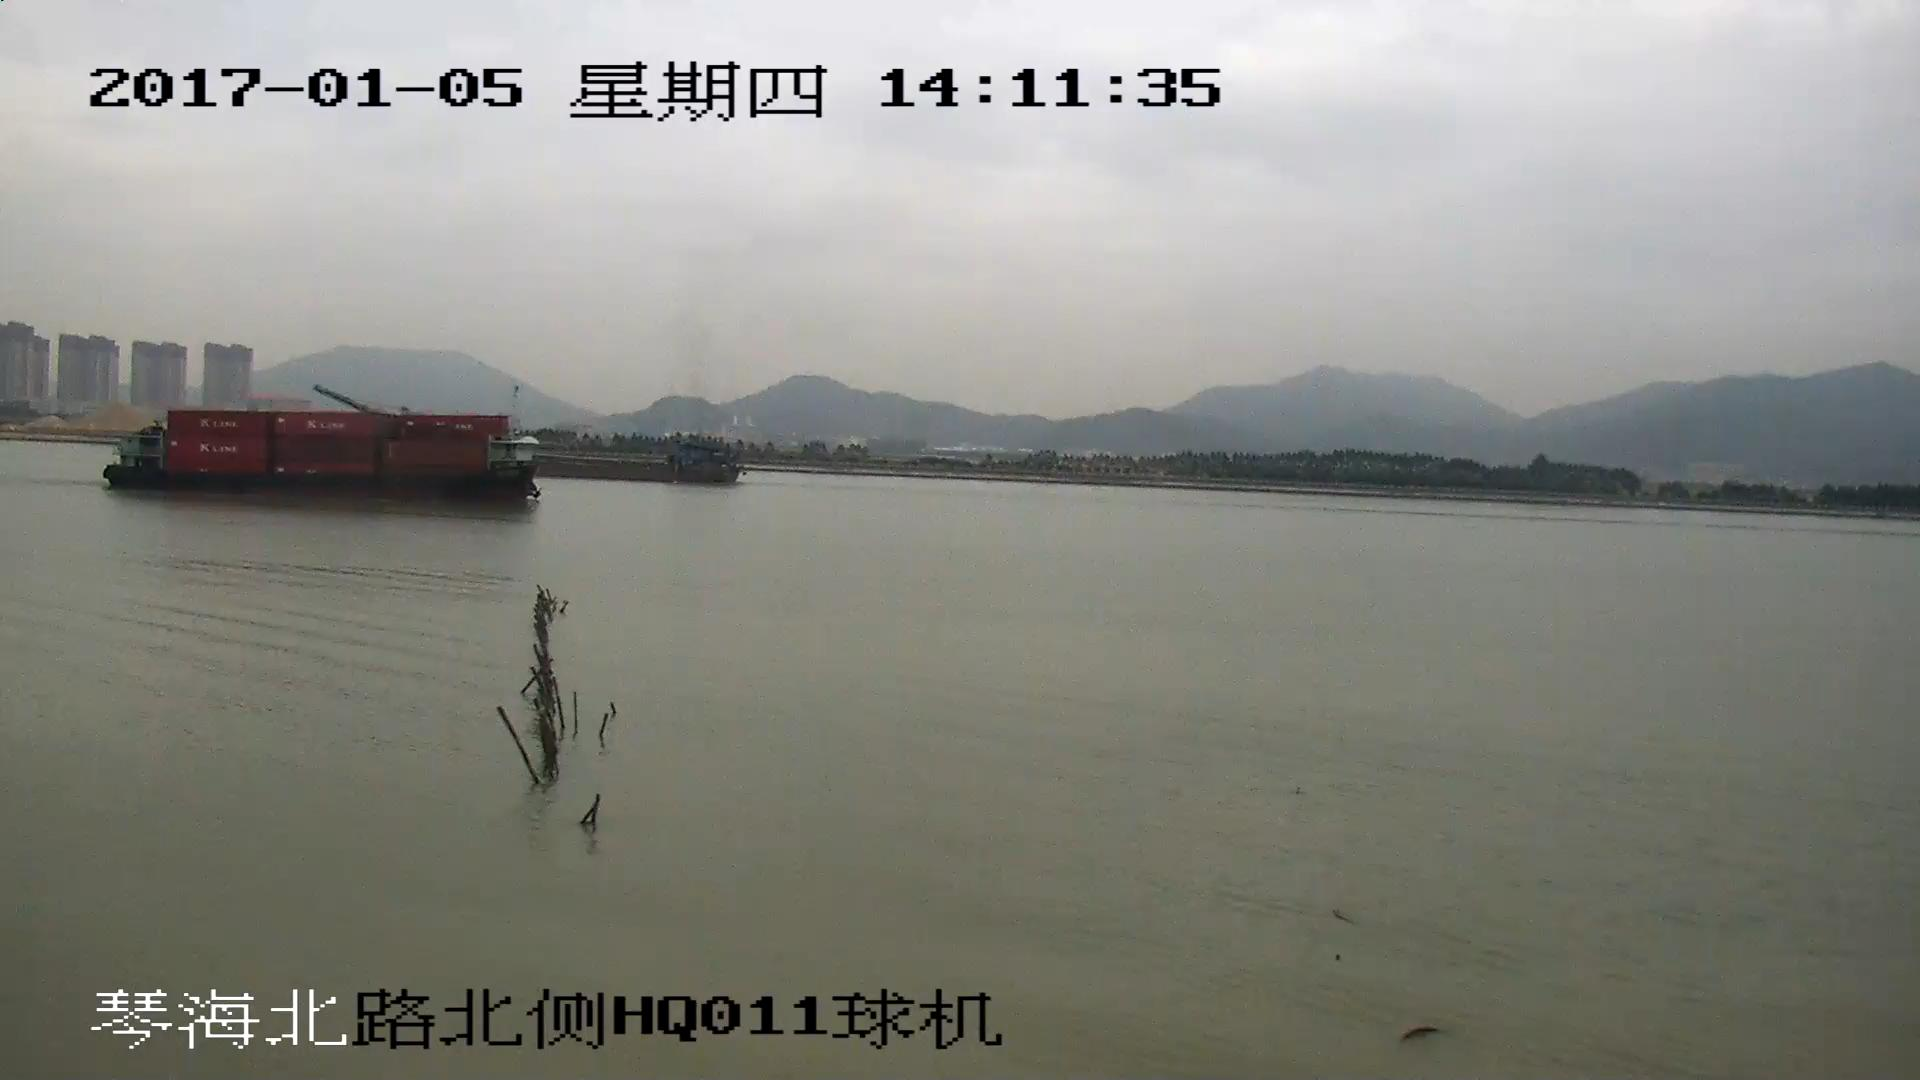bulk cargo carrier: (538, 447, 741, 487)
container ship: (108, 407, 535, 500)
